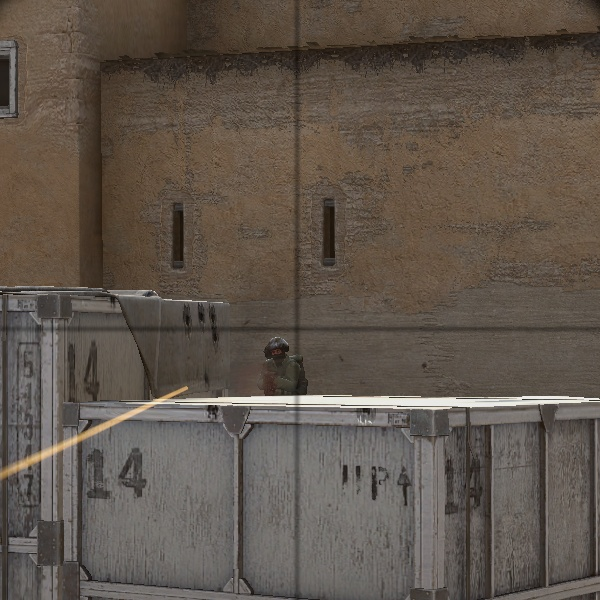ct_body: (260, 336, 307, 395)
ct_head: (264, 336, 290, 362)
